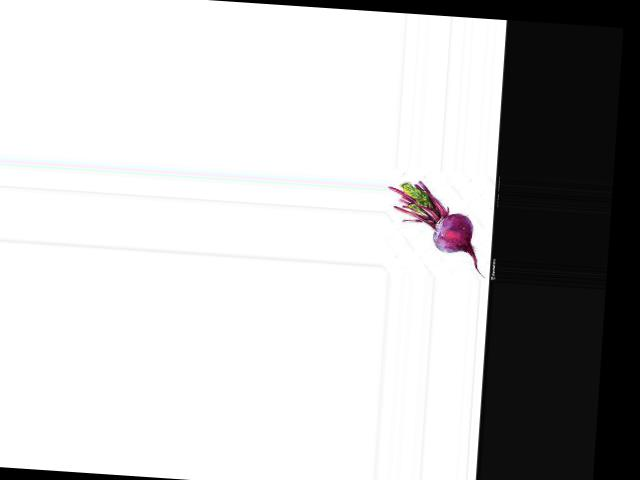beet: (382, 178, 490, 277)
